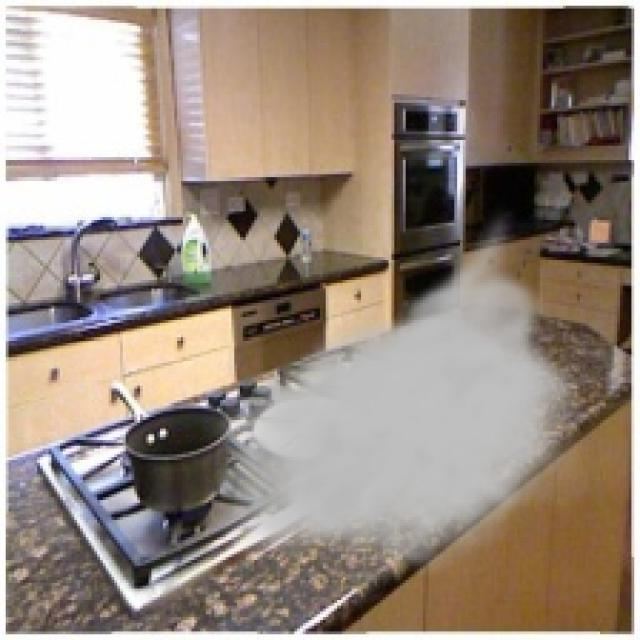smoke: (197, 203, 592, 574)
